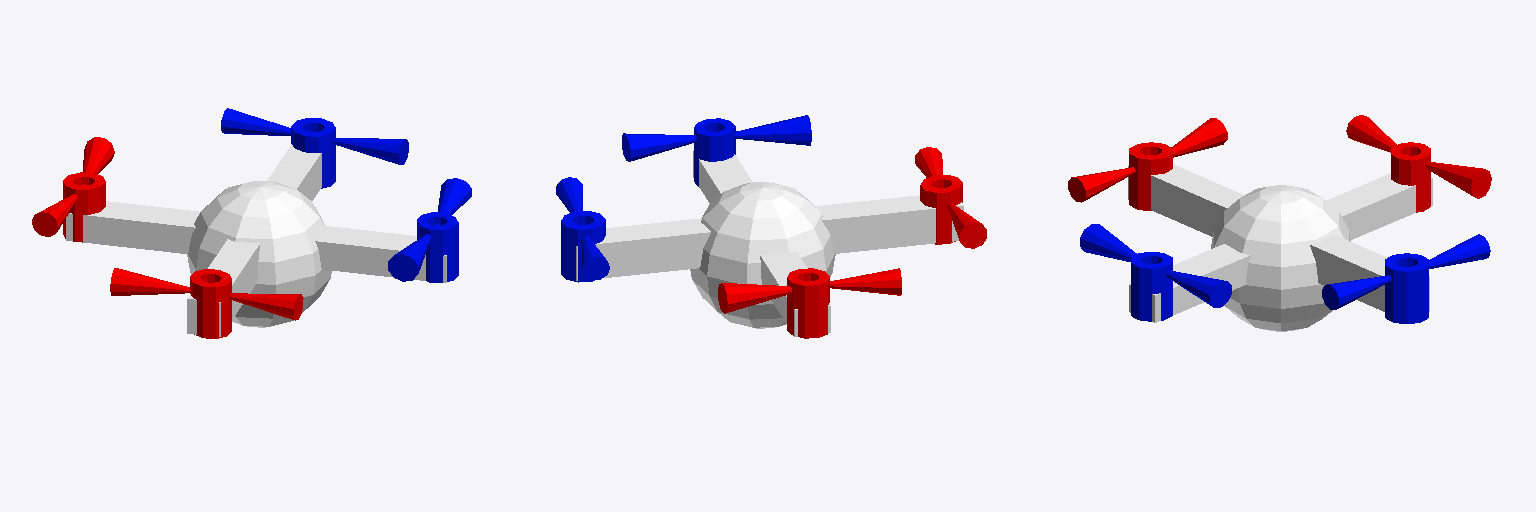
Rendered from dronebetter.obj.
3 renders of one model, left to right at view 1: azimuth 30°, elevation 25°; view 2: azimuth 150°, elevation 25°; view 3: azimuth 270°, elevation 25°, orthographic.
Visible parts, largest first — view 1: 011_Sphere, 012_Box_1, 014_Box, 007_Tube_2, 009_Tube_3, 010_Tube, 008_Tube_1, 003_Cone_4, 005_Cone_1, 002_Cone_5, 006_Cone, 013_Cone_2 (+3 smaller); view 2: 011_Sphere, 014_Box, 012_Box_1, 008_Tube_1, 010_Tube, 007_Tube_2, 009_Tube_3, 013_Cone_2, 000_Cone_7, 004_Cone_3, 001_Cone_6, 003_Cone_4 (+3 smaller); view 3: 011_Sphere, 014_Box, 012_Box_1, 010_Tube, 009_Tube_3, 007_Tube_2, 008_Tube_1, 000_Cone_7, 004_Cone_3, 005_Cone_1, 013_Cone_2, 002_Cone_5 (+3 smaller).
Part boxes in pixels (x1,y1,x2,y2): 011_Sphere: (187, 181, 331, 327); 012_Box_1: (66, 201, 446, 282); 014_Box: (187, 144, 321, 336); 007_Tube_2: (190, 269, 231, 338); 009_Tube_3: (417, 212, 458, 282); 010_Tube: (291, 118, 335, 188); 008_Tube_1: (63, 172, 105, 242); 003_Cone_4: (110, 268, 190, 295); 005_Cone_1: (333, 138, 408, 164); 002_Cone_5: (229, 293, 303, 320); 006_Cone: (221, 108, 290, 135); 013_Cone_2: (388, 234, 430, 281); 011_Sphere: (690, 182, 835, 328); 014_Box: (576, 195, 963, 280); 012_Box_1: (693, 149, 830, 336); 008_Tube_1: (787, 268, 829, 338); 010_Tube: (561, 211, 605, 282); 007_Tube_2: (920, 175, 962, 244); 009_Tube_3: (694, 118, 735, 186); 013_Cone_2: (734, 115, 811, 145); 000_Cone_7: (718, 283, 791, 313); 004_Cone_3: (622, 133, 696, 161); 001_Cone_6: (829, 268, 901, 295); 003_Cone_4: (947, 203, 986, 248); 011_Sphere: (1211, 185, 1350, 331); 014_Box: (1128, 164, 1429, 311); 012_Box_1: (1129, 173, 1432, 322); 010_Tube: (1385, 253, 1428, 323); 009_Tube_3: (1131, 252, 1172, 321); 007_Tube_2: (1129, 142, 1172, 210); 008_Tube_1: (1391, 142, 1430, 212); 000_Cone_7: (1426, 162, 1491, 198); 004_Cone_3: (1166, 270, 1231, 307); 005_Cone_1: (1322, 275, 1391, 309); 013_Cone_2: (1080, 224, 1148, 263); 002_Cone_5: (1068, 167, 1135, 202).
Bounding box in the file's own units: 284 × 100 × 285.